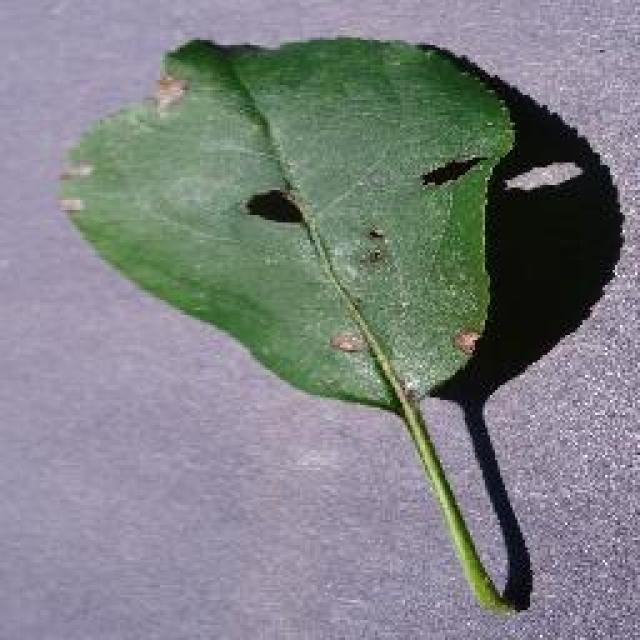apple scab disease: (55, 32, 625, 612)
